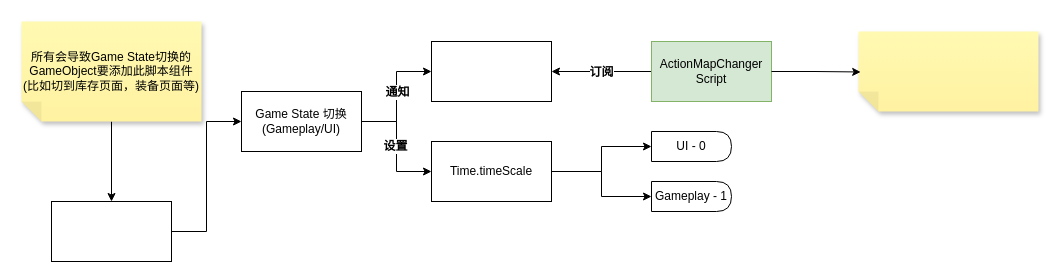
Some shapes in this 1061 by 279 pixel diagram are drawn without their labels. Here are the shapes that lost their labels. From the top down, the centre of each, then its label:
At point 491,71: "OnGameState Changed".
At point 949,72: "所有需要订阅Game State切换的GameObject需要添加此脚本组件".
At point 111,231: "Game Manager Script (全局管理脚本)".
